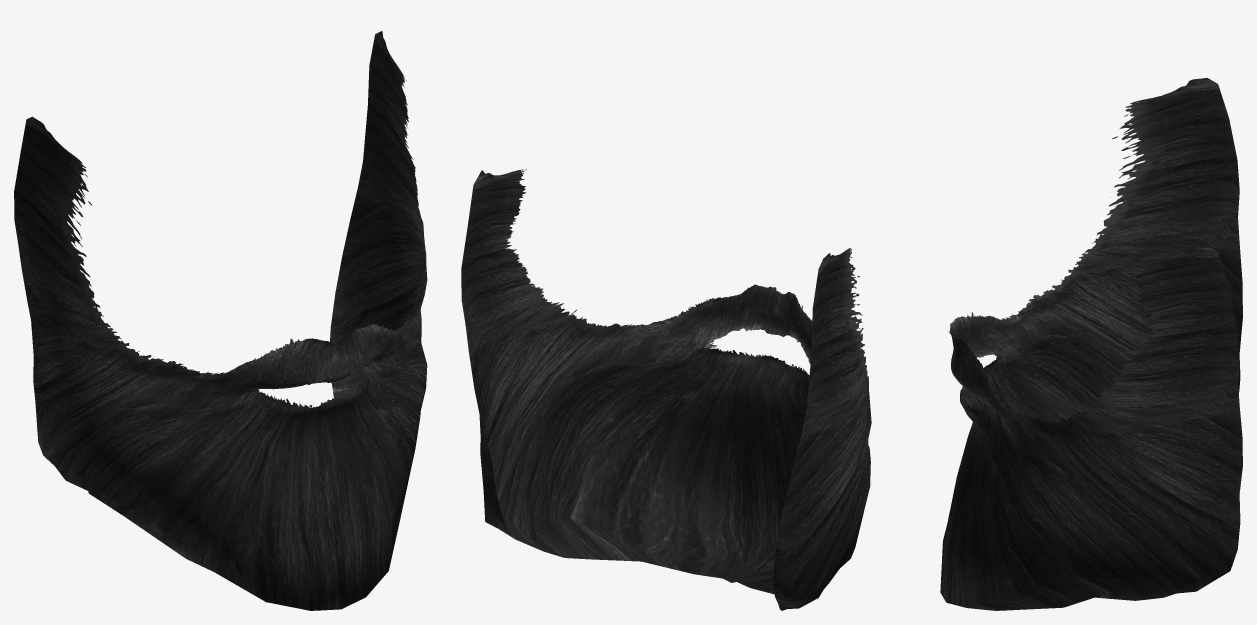
Rendered from FaceMesh_Yash_Deformer.fbx.
3 renders of one model, left to right at view 1: azimuth 30°, elevation 25°; view 2: azimuth 150°, elevation 25°; view 3: azimuth 270°, elevation 25°, orthographic.
Parts seen in each view (by area): view 1: beard; view 2: beard; view 3: beard.
Boxes of the visible parts, <box> form: beard: <box>14,31,427,610</box>; beard: <box>461,169,871,610</box>; beard: <box>940,77,1242,610</box>.
Bounding box in the file's own units: 15.21 × 22.75 × 12.71.
1 material, 1 textured.
